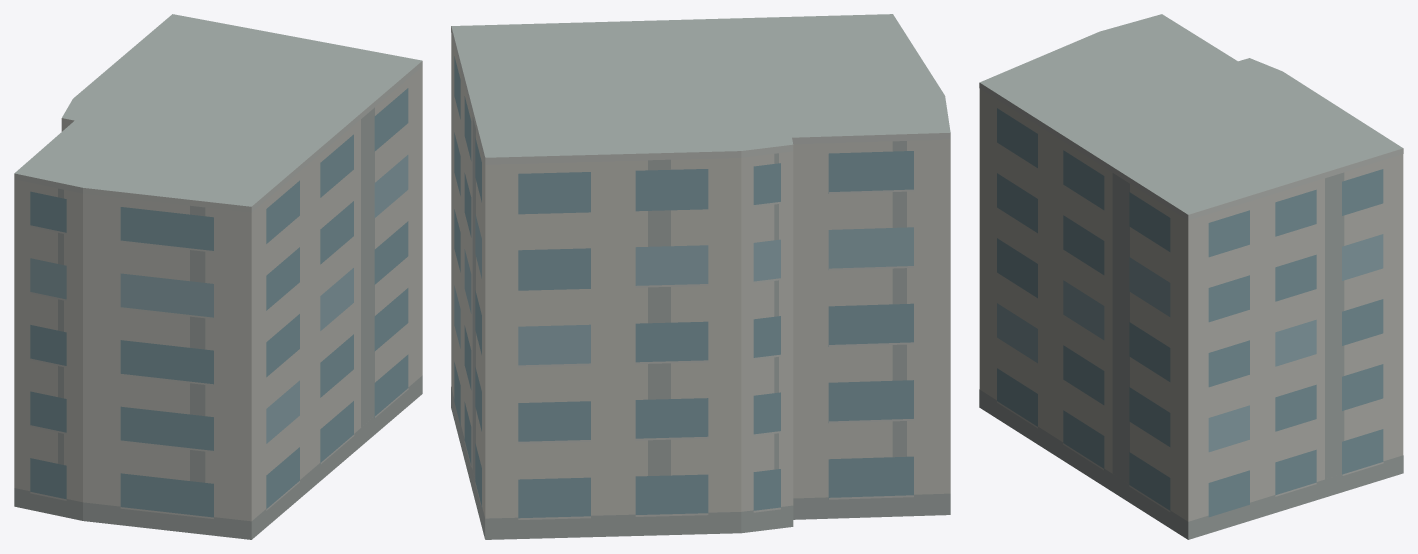
File: survey-upis-32763875.glb
3 views of the same model, side by side, from view 1: azimuth 30°, elevation 25°; view 2: azimuth 150°, elevation 25°; view 3: azimuth 270°, elevation 25° (orthographic). The views are drawn at different scales.
Visible parts, largest first — view 1: survey-upis-32763875.tmp; view 2: survey-upis-32763875.tmp; view 3: survey-upis-32763875.tmp.
Boxes of the visible parts, x1=… form: survey-upis-32763875.tmp: x1=14, y1=14, x2=422, y2=539; survey-upis-32763875.tmp: x1=451, y1=14, x2=950, y2=539; survey-upis-32763875.tmp: x1=979, y1=14, x2=1403, y2=539.
Bounding box in the file's own units: 18.16 × 13.7 × 16.2.
